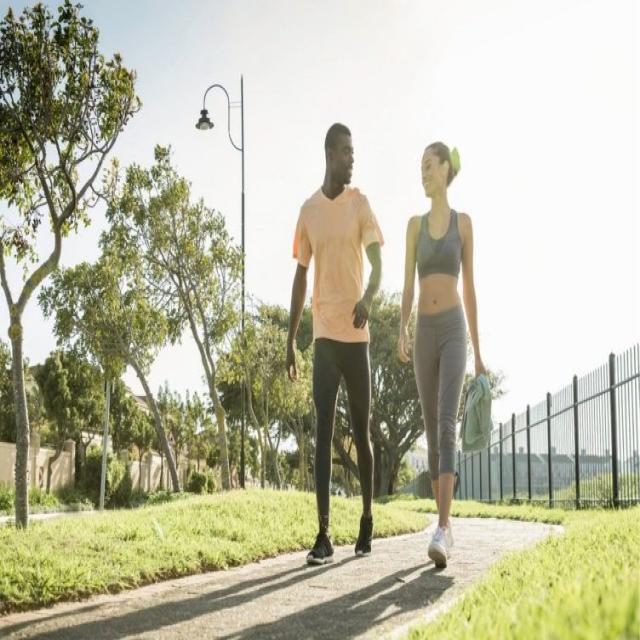Person: (286, 123, 384, 564), (398, 140, 491, 565)
